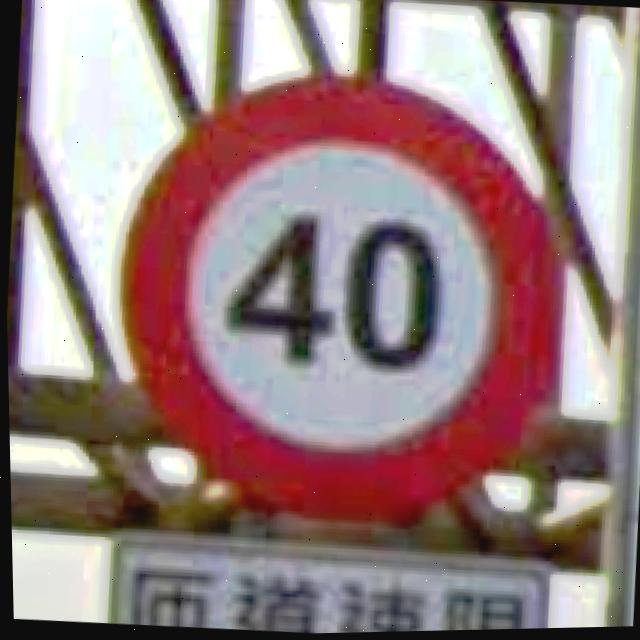max40: (89, 49, 588, 543)
